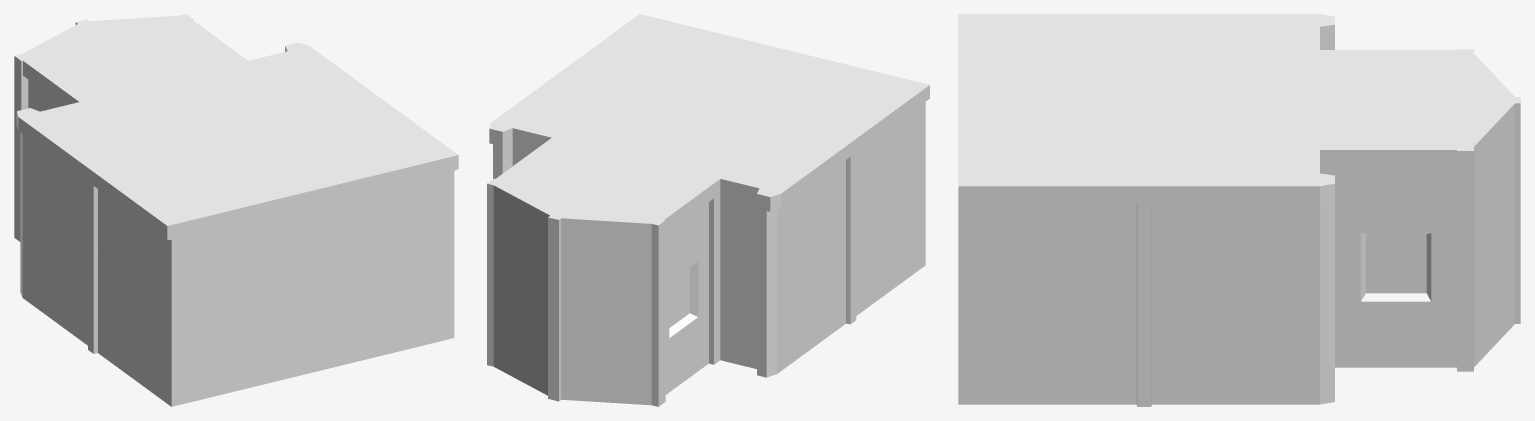
File: venice_building_9.fbx
The picture shows the model from 3 angles, left to right: view 1: azimuth 30°, elevation 25°; view 2: azimuth 150°, elevation 25°; view 3: azimuth 270°, elevation 25°; orthographic projection. The views are drawn at different scales.
Visible parts, largest first — view 1: Cube.325; view 2: Cube.325; view 3: Cube.325.
Part boxes in pixels (box(x1,y1,x2,y2)): Cube.325: box(14, 14, 458, 406); Cube.325: box(487, 14, 929, 406); Cube.325: box(958, 14, 1520, 406).
Bounding box in the file's own units: 763 × 456 × 1053.
